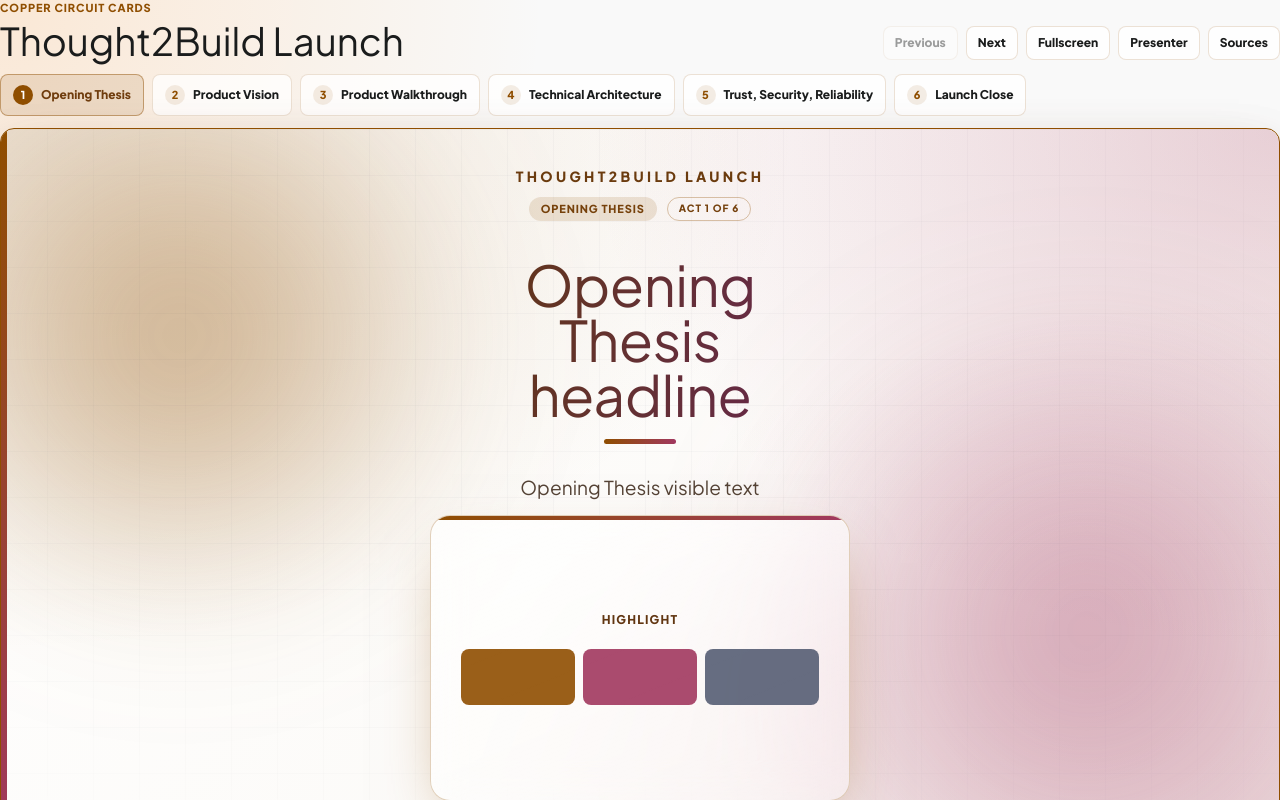
Test: StoryboardDeck › renders a deterministic themed visual, never a media promise or raw source text
The image size is (1280, 800).
Expected: the text "Highlight" is shown, [602,612,678,627]
Expected: the heading "Opening Thesis headline" is shown, [476,257,804,444]
Click the tab "3 Product Walkthrough" at (390, 95), box [300,74,480,116]
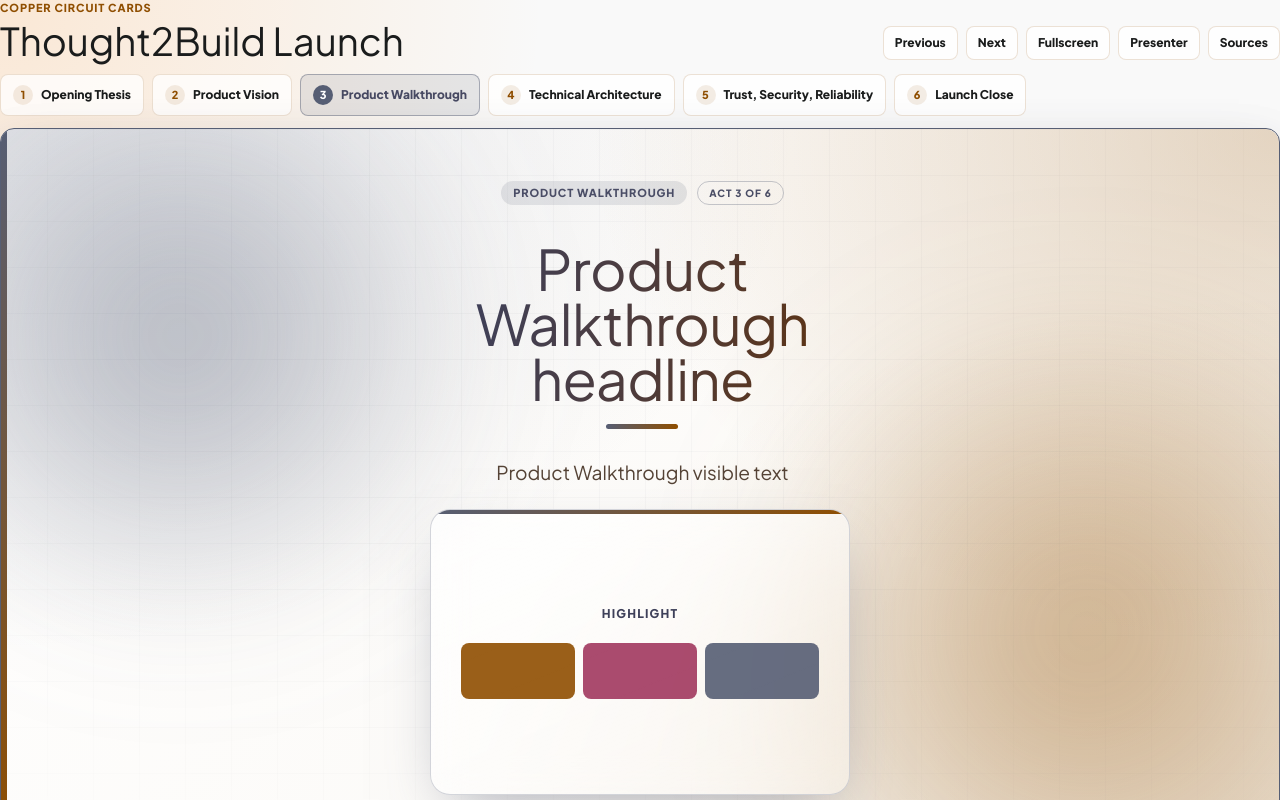
Result: the text "Product Walkthrough visible text" is shown at [496,459,789,487]
